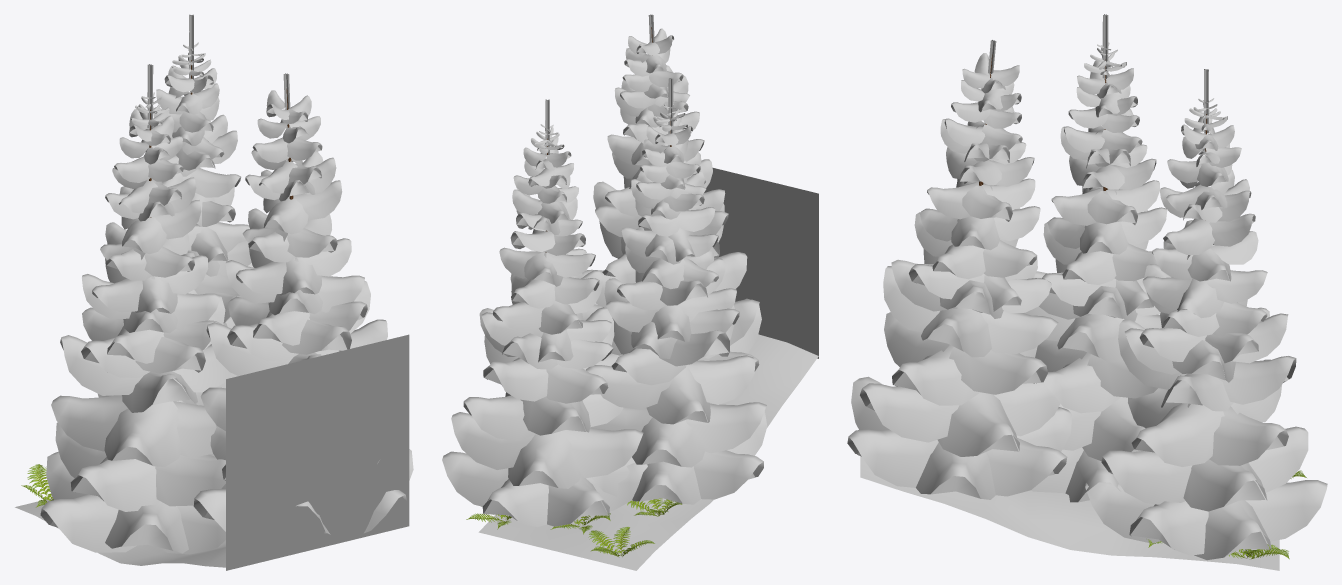
The model's file is foliageprefab_perimside001.fbx.
3 renders of one model, left to right at view 1: azimuth 30°, elevation 25°; view 2: azimuth 150°, elevation 25°; view 3: azimuth 270°, elevation 25°, orthographic. The views are drawn at different scales.
Parts seen in each view (by area): view 1: polySurface2; view 2: polySurface2; view 3: polySurface2.
Boxes of the visible parts, x1,y1,x2,y2 form: polySurface2: (15, 14, 413, 570); polySurface2: (442, 14, 818, 570); polySurface2: (847, 14, 1327, 570).
Bounding box in the file's own units: 646 × 1060 × 916.
